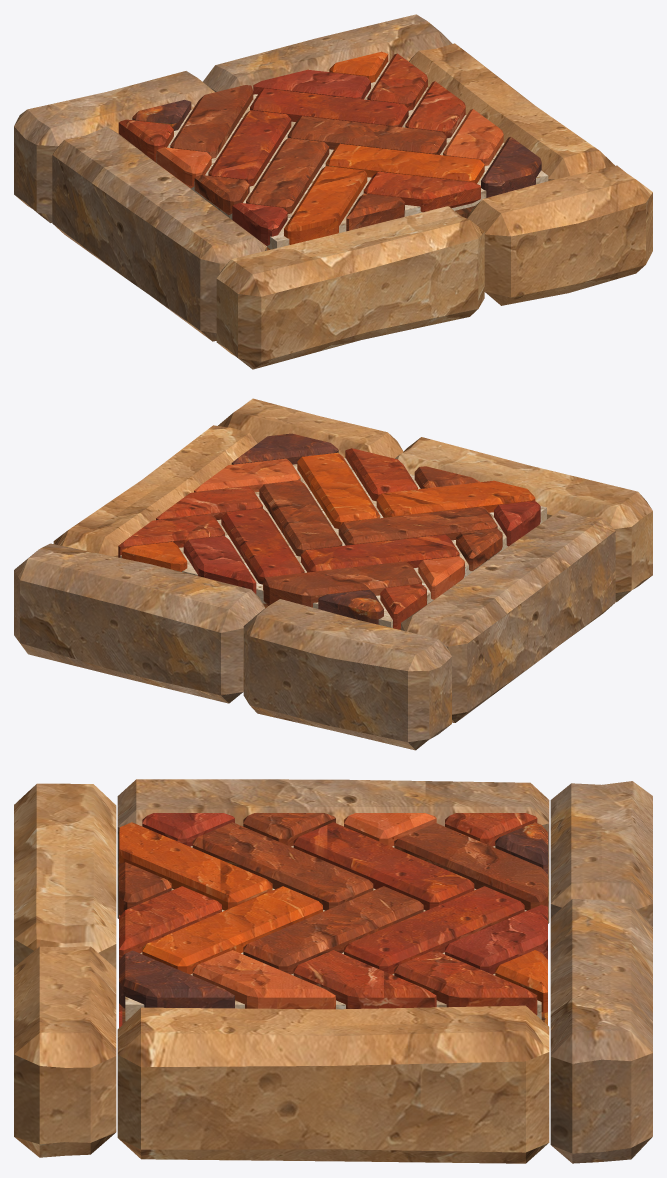
Rendered from small_floor__clay_brick.glb.
3 views of the same model, one above another, from view 1: azimuth 30°, elevation 25°; view 2: azimuth 150°, elevation 25°; view 3: azimuth 270°, elevation 25° (orthographic). The views are drawn at different scales.
Parts seen in each view (by area): view 1: model; view 2: model; view 3: model.
Part boxes in pixels (x1,y1,x2,y2): model: (14,14,652,369); model: (14,398,652,750); model: (14,779,652,1163).
Bounding box in the file's own units: 0.986 × 0.2355 × 0.986.
Materials: 14 (14 with a texture image).
